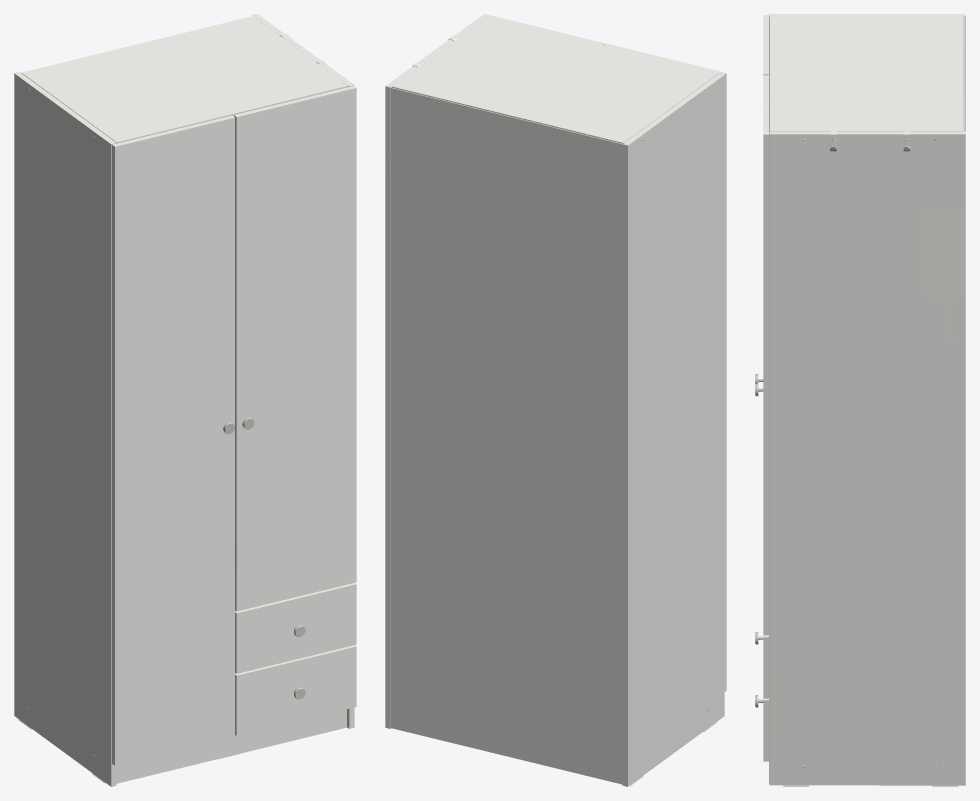
File: 05 - BRUKSVARA - 2門2抽衣櫃衣櫥, 白色, 79x57x201 公分 IKEA 線上購物.glb
The picture shows the model from 3 angles, left to right: view 1: azimuth 30°, elevation 25°; view 2: azimuth 150°, elevation 25°; view 3: azimuth 270°, elevation 25°; orthographic projection.
Parts seen in each view (by area): view 1: Mesh_0; view 2: Mesh_0; view 3: Mesh_0.
Boxes of the visible parts, box(x1,y1,x2,y2) form: Mesh_0: box(14, 14, 356, 786); Mesh_0: box(385, 14, 726, 786); Mesh_0: box(755, 14, 965, 785).
Bounding box in the file's own units: 0.8202 × 2.01 × 0.5871.
2 materials, 1 textured.
